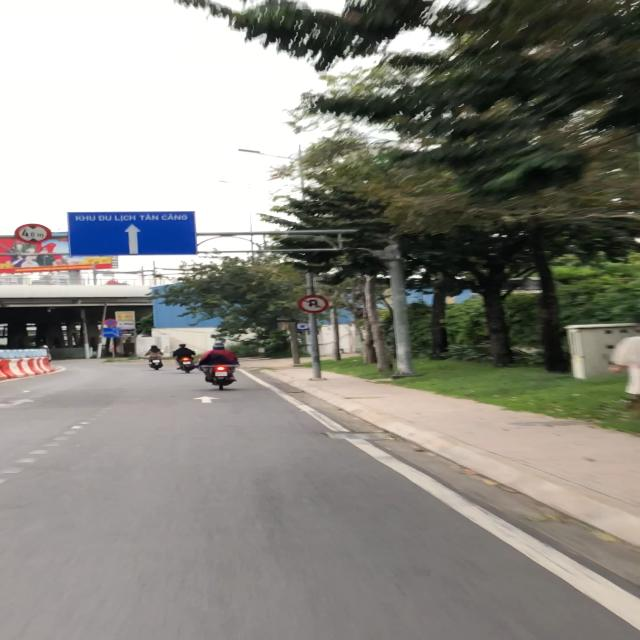Bien bao cam quay dau xe: (294, 294, 332, 314)
Bien bao han che chieu cao: (14, 224, 56, 246)
